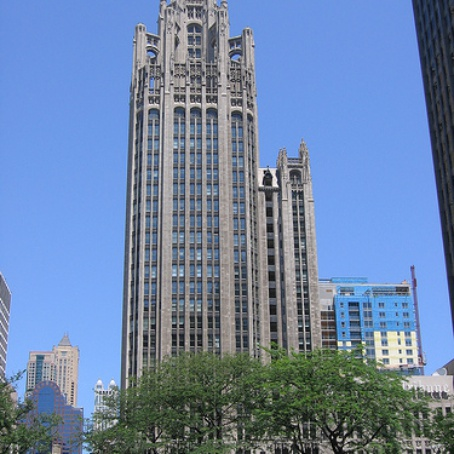building: (132, 1, 318, 443), (312, 272, 422, 454), (27, 342, 80, 451)
sky: (270, 1, 440, 279), (15, 1, 130, 354)
tree: (115, 345, 283, 454), (273, 345, 441, 454)
